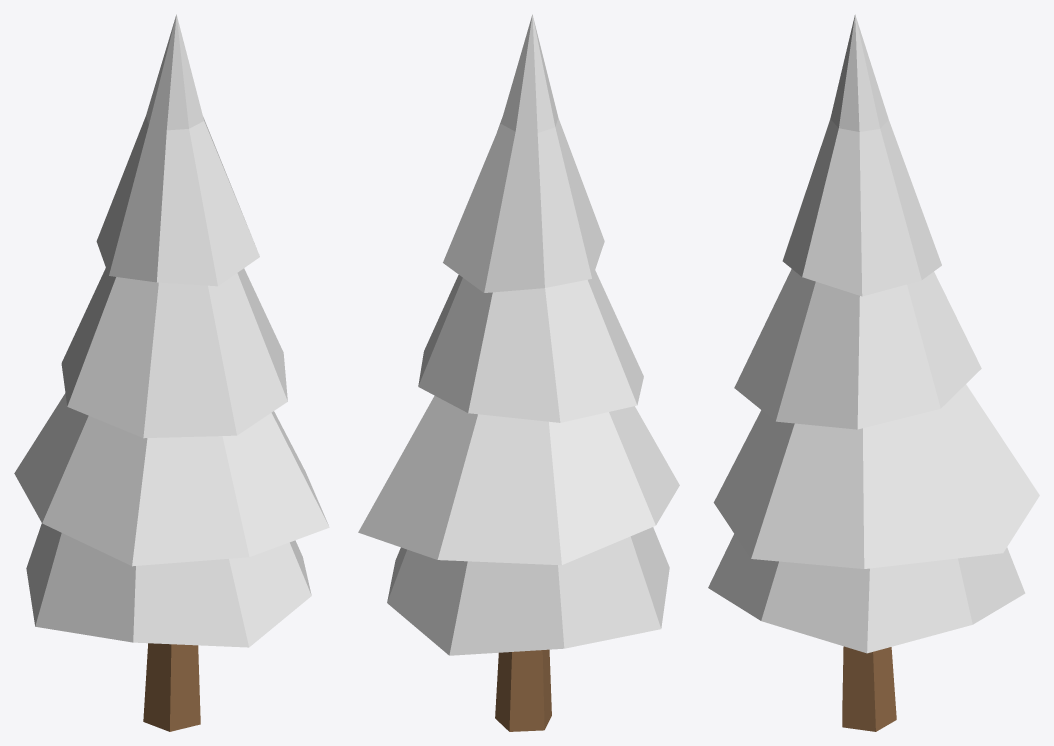
File: Fir_Tree_OneSided_m_Snow_02.fbx
3 views of the same model, side by side, from view 1: azimuth 30°, elevation 25°; view 2: azimuth 150°, elevation 25°; view 3: azimuth 270°, elevation 25° (orthographic).
Parts seen in each view (by area): view 1: Fir_Tree_OneSided_m_Snow_02; view 2: Fir_Tree_OneSided_m_Snow_02; view 3: Fir_Tree_OneSided_m_Snow_02.
Boxes of the visible parts, x1=… form: Fir_Tree_OneSided_m_Snow_02: x1=14, y1=14, x2=329, y2=731; Fir_Tree_OneSided_m_Snow_02: x1=358, y1=14, x2=679, y2=731; Fir_Tree_OneSided_m_Snow_02: x1=708, y1=14, x2=1039, y2=731.
Size of the model in its own units: 280 by 706 by 301.
